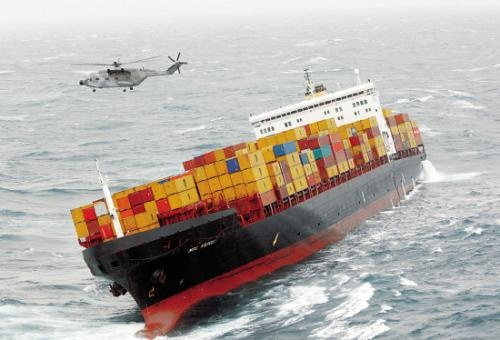Cargoship: (60, 63, 428, 331)
airplane: (70, 51, 189, 88)
